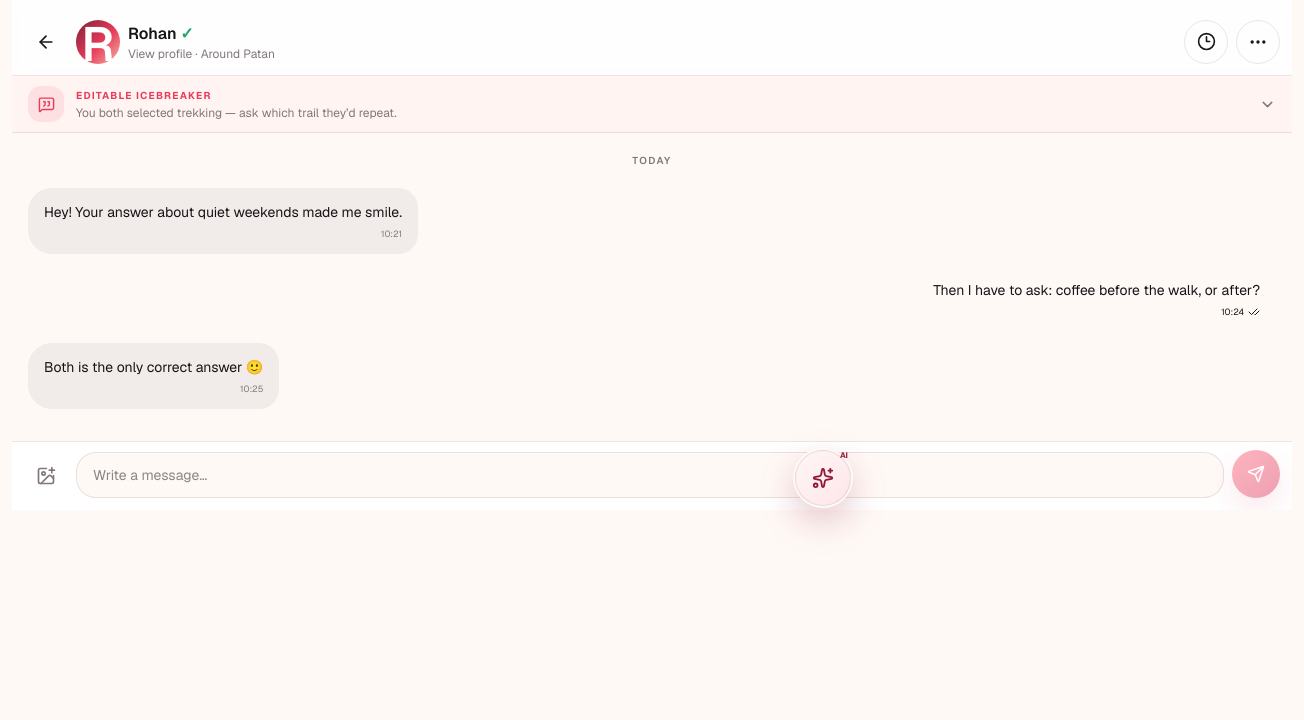
Test: chat overlays › keeps Maya floating while the safety menu is open and layers the menu above messages
Expected: the button with aria-label "Open Maya AI assistant" is shown, [795,450,851,506]
What coordinates should you click on to do the following:
click the button named "Open safety menu"
I would click on:
 (1258, 42)
Its box is [1236,20,1280,64].
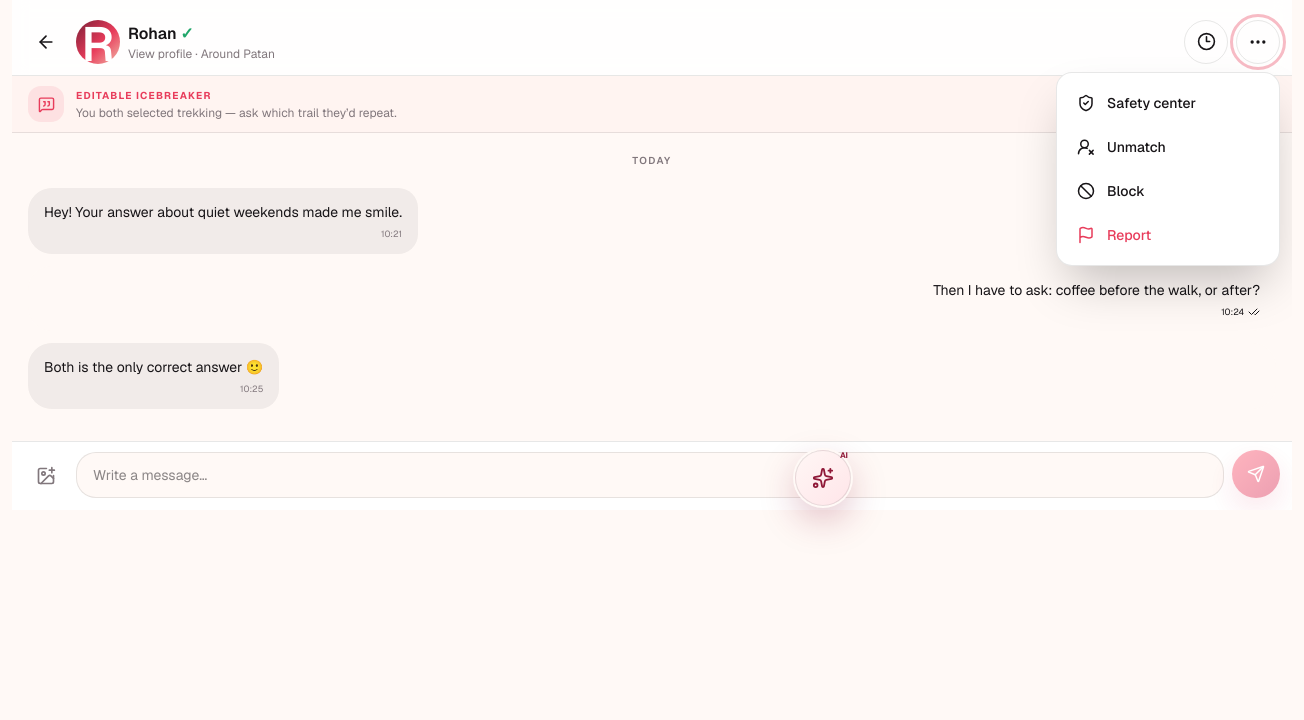
Expected: the button with aria-label "Open Maya AI assistant" is shown, [795,450,851,506]
Expected: the link "Safety center" is shown, [1077,94,1196,112]
